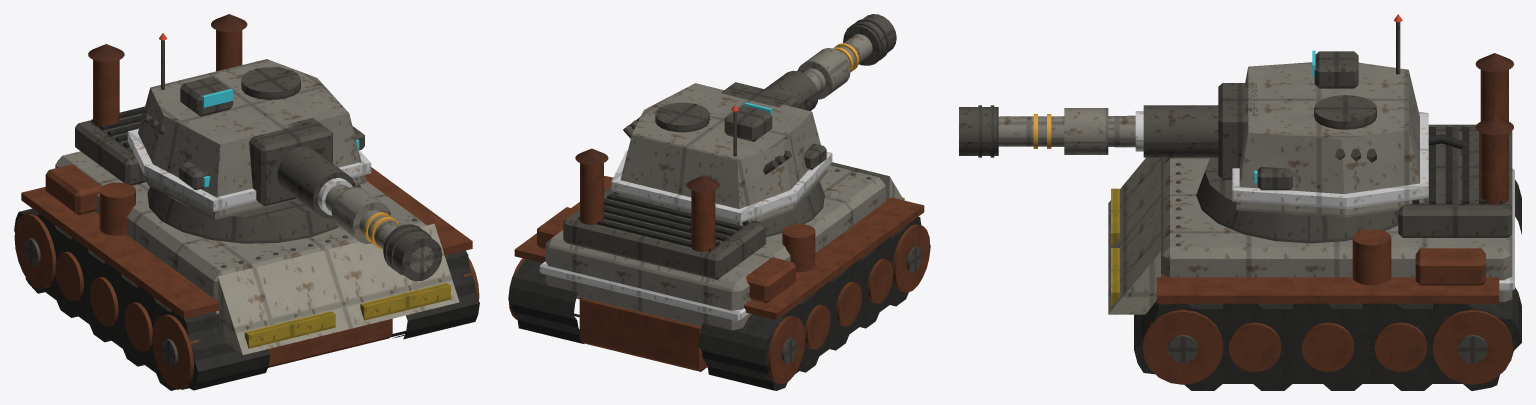
3 views of the same model, side by side, from view 1: azimuth 30°, elevation 25°; view 2: azimuth 150°, elevation 25°; view 3: azimuth 270°, elevation 25° (orthographic). The views are drawn at different scales.
Visible parts, largest first — view 1: dweller_robot_sentinel; view 2: dweller_robot_sentinel; view 3: dweller_robot_sentinel.
Boxes of the visible parts, x1,y1,x2,y2 form: dweller_robot_sentinel: [14, 14, 479, 390]; dweller_robot_sentinel: [508, 14, 930, 390]; dweller_robot_sentinel: [959, 14, 1521, 390].
Bounding box in the file's own units: 4.08 × 3.5 × 6.41.
11 materials, 11 textured.
